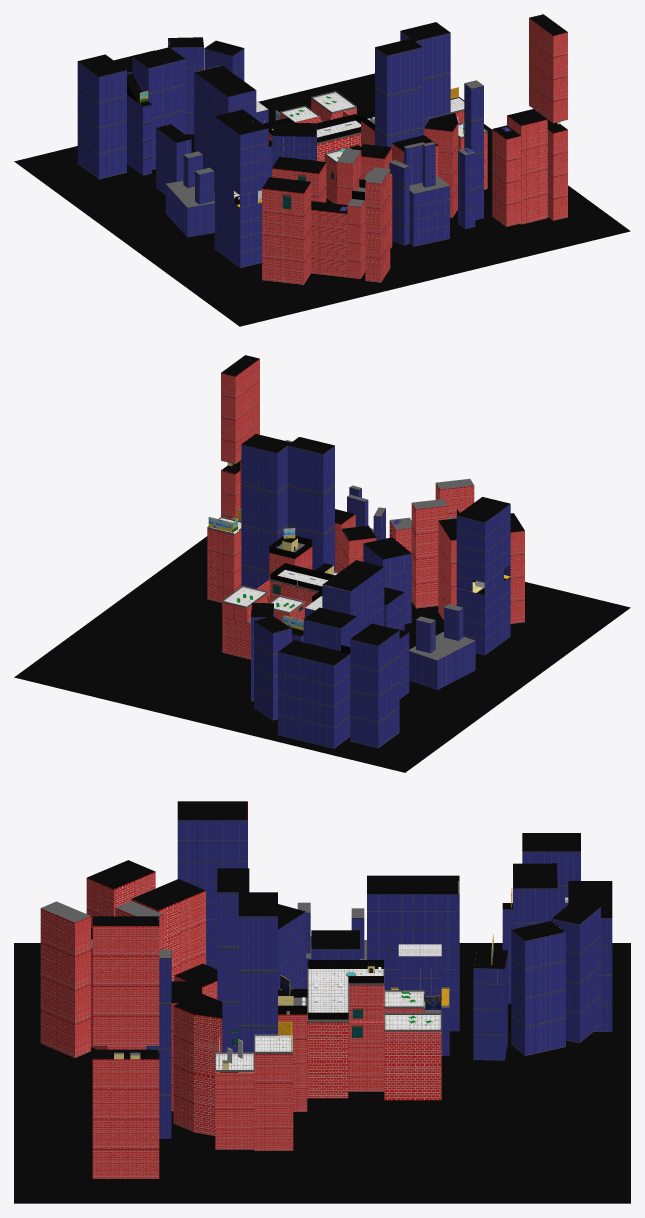
The model's file is TutorialBlender.glb.
3 views of the same model, one above another, from view 1: azimuth 30°, elevation 25°; view 2: azimuth 150°, elevation 25°; view 3: azimuth 270°, elevation 25° (orthographic). The views are drawn at different scales.
Visible parts, largest first — view 1: Ground, Cube.041, Cube.062, Cube.015, Cube.048, Cube.003, Cube.007, Cube.040, Cube.084, Cube.021, Cube.047, Cube.076 (+27 smaller); view 2: Ground, Cube.030, Cube.021, Cube.041, Cube.015, Cube.048, Cube.003, Cube.007, Cube.077, Cube.047, Cube.016, Cube.008 (+19 smaller); view 3: Ground, Cube.003, Cube.002, Cube.007, Cube.076, Cube.038, Cube.020, Cube.021, Cube.048, Cube.008, Cube.061, Cube.015 (+26 smaller).
Part boxes in pixels (<box>): Ground: <box>14,73,630,326</box>; Cube.041: <box>77,54,126,179</box>; Cube.062: <box>262,177,311,284</box>; Cube.015: <box>375,38,422,147</box>; Cube.048: <box>214,109,268,195</box>; Cube.003: <box>529,14,567,123</box>; Cube.007: <box>194,65,256,186</box>; Cube.040: <box>132,47,185,169</box>; Cube.084: <box>507,109,547,224</box>; Cube.021: <box>400,22,450,135</box>; Cube.047: <box>214,189,261,267</box>; Cube.076: <box>365,167,390,282</box>; Ground: <box>14,536,630,772</box>; Cube.030: <box>278,640,350,748</box>; Cube.021: <box>241,434,291,588</box>; Cube.041: <box>350,623,399,748</box>; Cube.015: <box>287,437,334,571</box>; Cube.048: <box>456,497,510,582</box>; Cube.003: <box>221,355,259,464</box>; Cube.007: <box>322,560,384,633</box>; Cube.077: <box>411,499,447,608</box>; Cube.047: <box>456,575,510,655</box>; Cube.016: <box>409,631,475,690</box>; Cube.008: <box>254,616,291,720</box>; Ground: <box>14,943,630,1203</box>; Cube.003: <box>92,916,159,1045</box>; Cube.002: <box>92,1049,159,1178</box>; Cube.007: <box>367,875,459,1031</box>; Cube.076: <box>40,901,90,1057</box>; Cube.038: <box>511,921,565,1055</box>; Cube.020: <box>173,993,222,1135</box>; Cube.021: <box>238,892,277,1052</box>; Cube.048: <box>177,801,247,902</box>; Cube.008: <box>552,900,600,1043</box>; Cube.061: <box>131,879,205,981</box>; Cube.015: <box>217,868,249,1052</box>.
Size of the model in its own units: 755 by 347 by 755.
3 materials, 2 textured.
